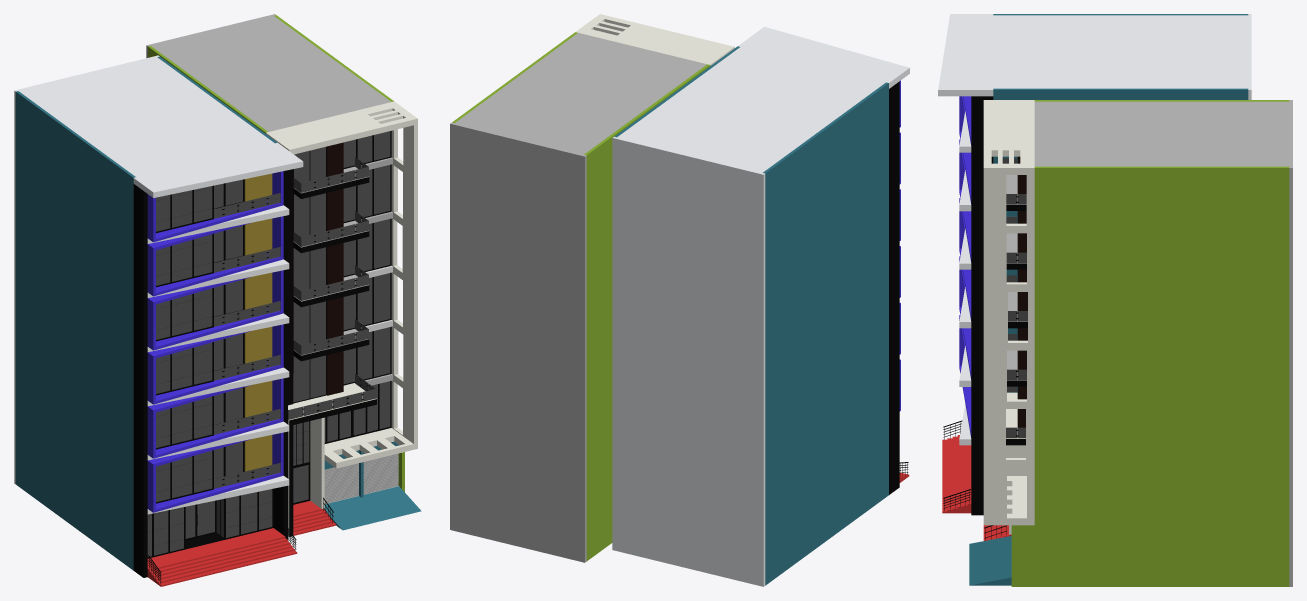
Rendered from modern building2-f.FBX.
3 renders of one model, left to right at view 1: azimuth 30°, elevation 25°; view 2: azimuth 150°, elevation 25°; view 3: azimuth 270°, elevation 25°, orthographic. The views are drawn at different scales.
Visible parts, largest first — view 1: Box516, Box520, Box288, Box676, Object022, Object023, Object002, Object033, Box675, Box343, Box674, Box570 (+59 smaller); view 2: Box511, Box296, Box516, Box520, Box288, Box289, Object022, Object033, Box675; view 3: Box287, Box520, Box288, Box676, Object072, Object033, Box675, Box519, Object002, Box343, Box296, Object023 (+6 smaller).
Part boxes in pixels (x1,y1,x2,y2): Box516: [15, 91, 135, 570]; Box520: [19, 57, 274, 176]; Box288: [151, 16, 390, 131]; Box676: [391, 124, 417, 443]; Object022: [133, 184, 147, 577]; Object023: [147, 259, 289, 514]; Object002: [147, 528, 297, 586]; Object033: [133, 142, 303, 197]; Box675: [266, 101, 417, 154]; Box343: [324, 486, 421, 530]; Box674: [324, 428, 417, 468]; Box570: [156, 450, 212, 502]; Box511: [612, 136, 765, 586]; Box296: [450, 122, 586, 562]; Box516: [763, 82, 888, 585]; Box520: [617, 47, 885, 172]; Box288: [455, 33, 706, 154]; Box289: [584, 64, 710, 561]; Object022: [889, 81, 899, 494]; Object033: [738, 26, 909, 88]; Box675: [576, 14, 734, 65]; Box287: [1034, 166, 1289, 586]; Box520: [993, 15, 1248, 88]; Box288: [1034, 101, 1289, 166]; Box676: [983, 174, 1034, 519]; Object072: [971, 96, 993, 515]; Object033: [938, 14, 993, 96]; Box675: [983, 100, 1034, 173]; Box519: [993, 88, 1248, 392]; Object002: [942, 435, 971, 513]; Box343: [969, 536, 1011, 585]; Box296: [1289, 100, 1292, 586]; Object023: [959, 170, 971, 445].
Bounding box in the file's own units: 2058 × 2760 × 2087.
